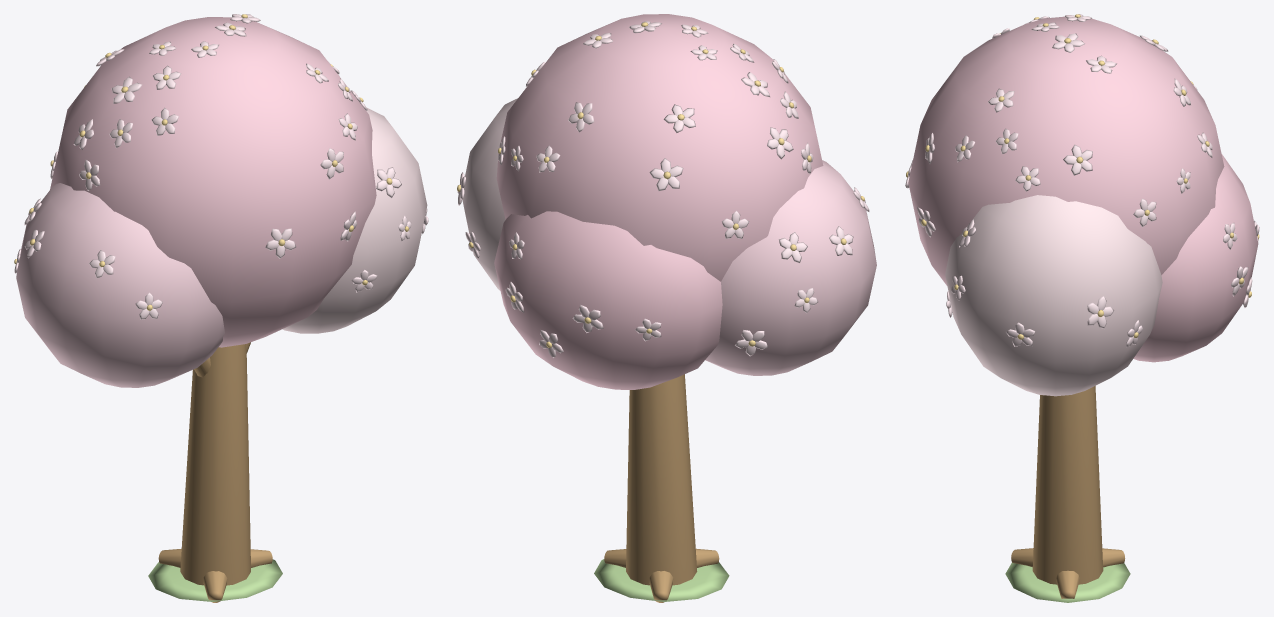
Rendered from tree_v1_spring.glb.
3 renders of one model, left to right at view 1: azimuth 30°, elevation 25°; view 2: azimuth 150°, elevation 25°; view 3: azimuth 270°, elevation 25°, orthographic.
Size of the model in its own units: 3.6 by 4.92 by 2.88.
